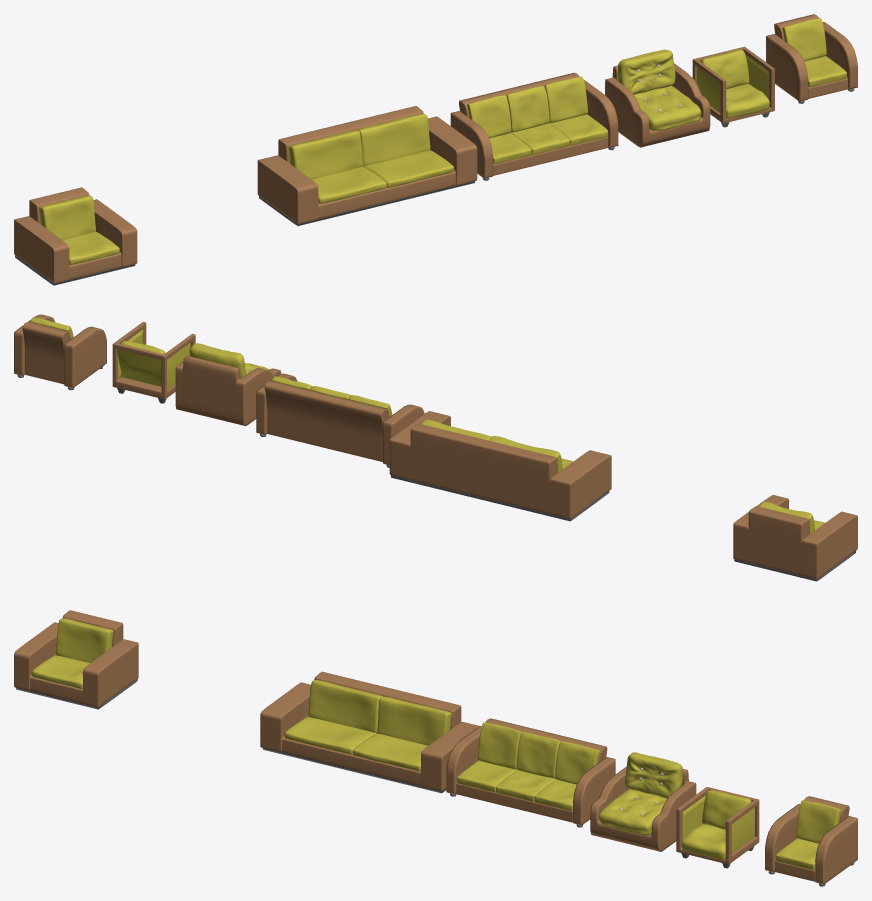
File: Couches.fbx
The picture shows the model from 3 angles, top to bottom: view 1: azimuth 30°, elevation 25°; view 2: azimuth 150°, elevation 25°; view 3: azimuth 330°, elevation 25°; orthographic projection.
Visible parts, largest first — view 1: Couch1, Couch1Cushion, Couch2Cushions, ArmChair4, Couch2, ArmChair1Cushion, ArmChair3, ArmChair1, ArmChair4Cushions, ArmChair2Cushions1, ArmChair3Cushions, ArmChair2 (+1 smaller); view 2: Couch1, Couch2, ArmChair4, ArmChair3, ArmChair1, ArmChair2, ArmChair2Cushions2, ArmChair1Cushion, Couch1Cushion, Couch2Cushions; view 3: Couch1Cushion, Couch1, Couch2Cushions, ArmChair4, Couch2, ArmChair1Cushion, ArmChair3, ArmChair1, ArmChair4Cushions, ArmChair2Cushions1, ArmChair3Cushions, ArmChair2 (+1 smaller).
Part boxes in pixels (box(x1,y1,x2,y2)): Couch1: box(257, 106, 477, 225); Couch1Cushion: box(288, 113, 453, 203); Couch2Cushions: box(467, 76, 608, 164); ArmChair4: box(14, 187, 137, 285); Couch2: box(450, 72, 618, 180); ArmChair1Cushion: box(618, 49, 701, 130); ArmChair3: box(766, 14, 857, 103); ArmChair1: box(605, 63, 710, 147); ArmChair4Cushions: box(39, 195, 119, 264); ArmChair2Cushions1: box(700, 49, 769, 118); ArmChair3Cushions: box(782, 18, 846, 87); ArmChair2: box(692, 46, 774, 127); Couch1: box(389, 411, 611, 521); Couch2: box(256, 373, 424, 467); ArmChair4: box(733, 495, 857, 581); ArmChair3: box(14, 314, 106, 390); ArmChair1: box(175, 355, 281, 425); ArmChair2: box(112, 322, 195, 403); ArmChair2Cushions2: box(117, 329, 190, 389); ArmChair1Cushion: box(189, 343, 269, 378); Couch1Cushion: box(421, 419, 573, 472); Couch2Cushions: box(271, 376, 392, 416); Couch1Cushion: box(284, 680, 451, 771); Couch1: box(260, 671, 479, 793); Couch2Cushions: box(457, 722, 600, 811); ArmChair4: box(14, 610, 138, 709); Couch2: box(446, 718, 615, 827); ArmChair1Cushion: box(599, 752, 682, 835); ArmChair3: box(765, 796, 857, 886); ArmChair1: box(590, 767, 696, 851); ArmChair4Cushions: box(32, 618, 113, 688); ArmChair2Cushions1: box(681, 790, 751, 859); ArmChair3Cushions: box(776, 800, 841, 869); ArmChair2: box(676, 787, 759, 868).
Size of the model in its own units: 1161 by 92.64 by 130.
